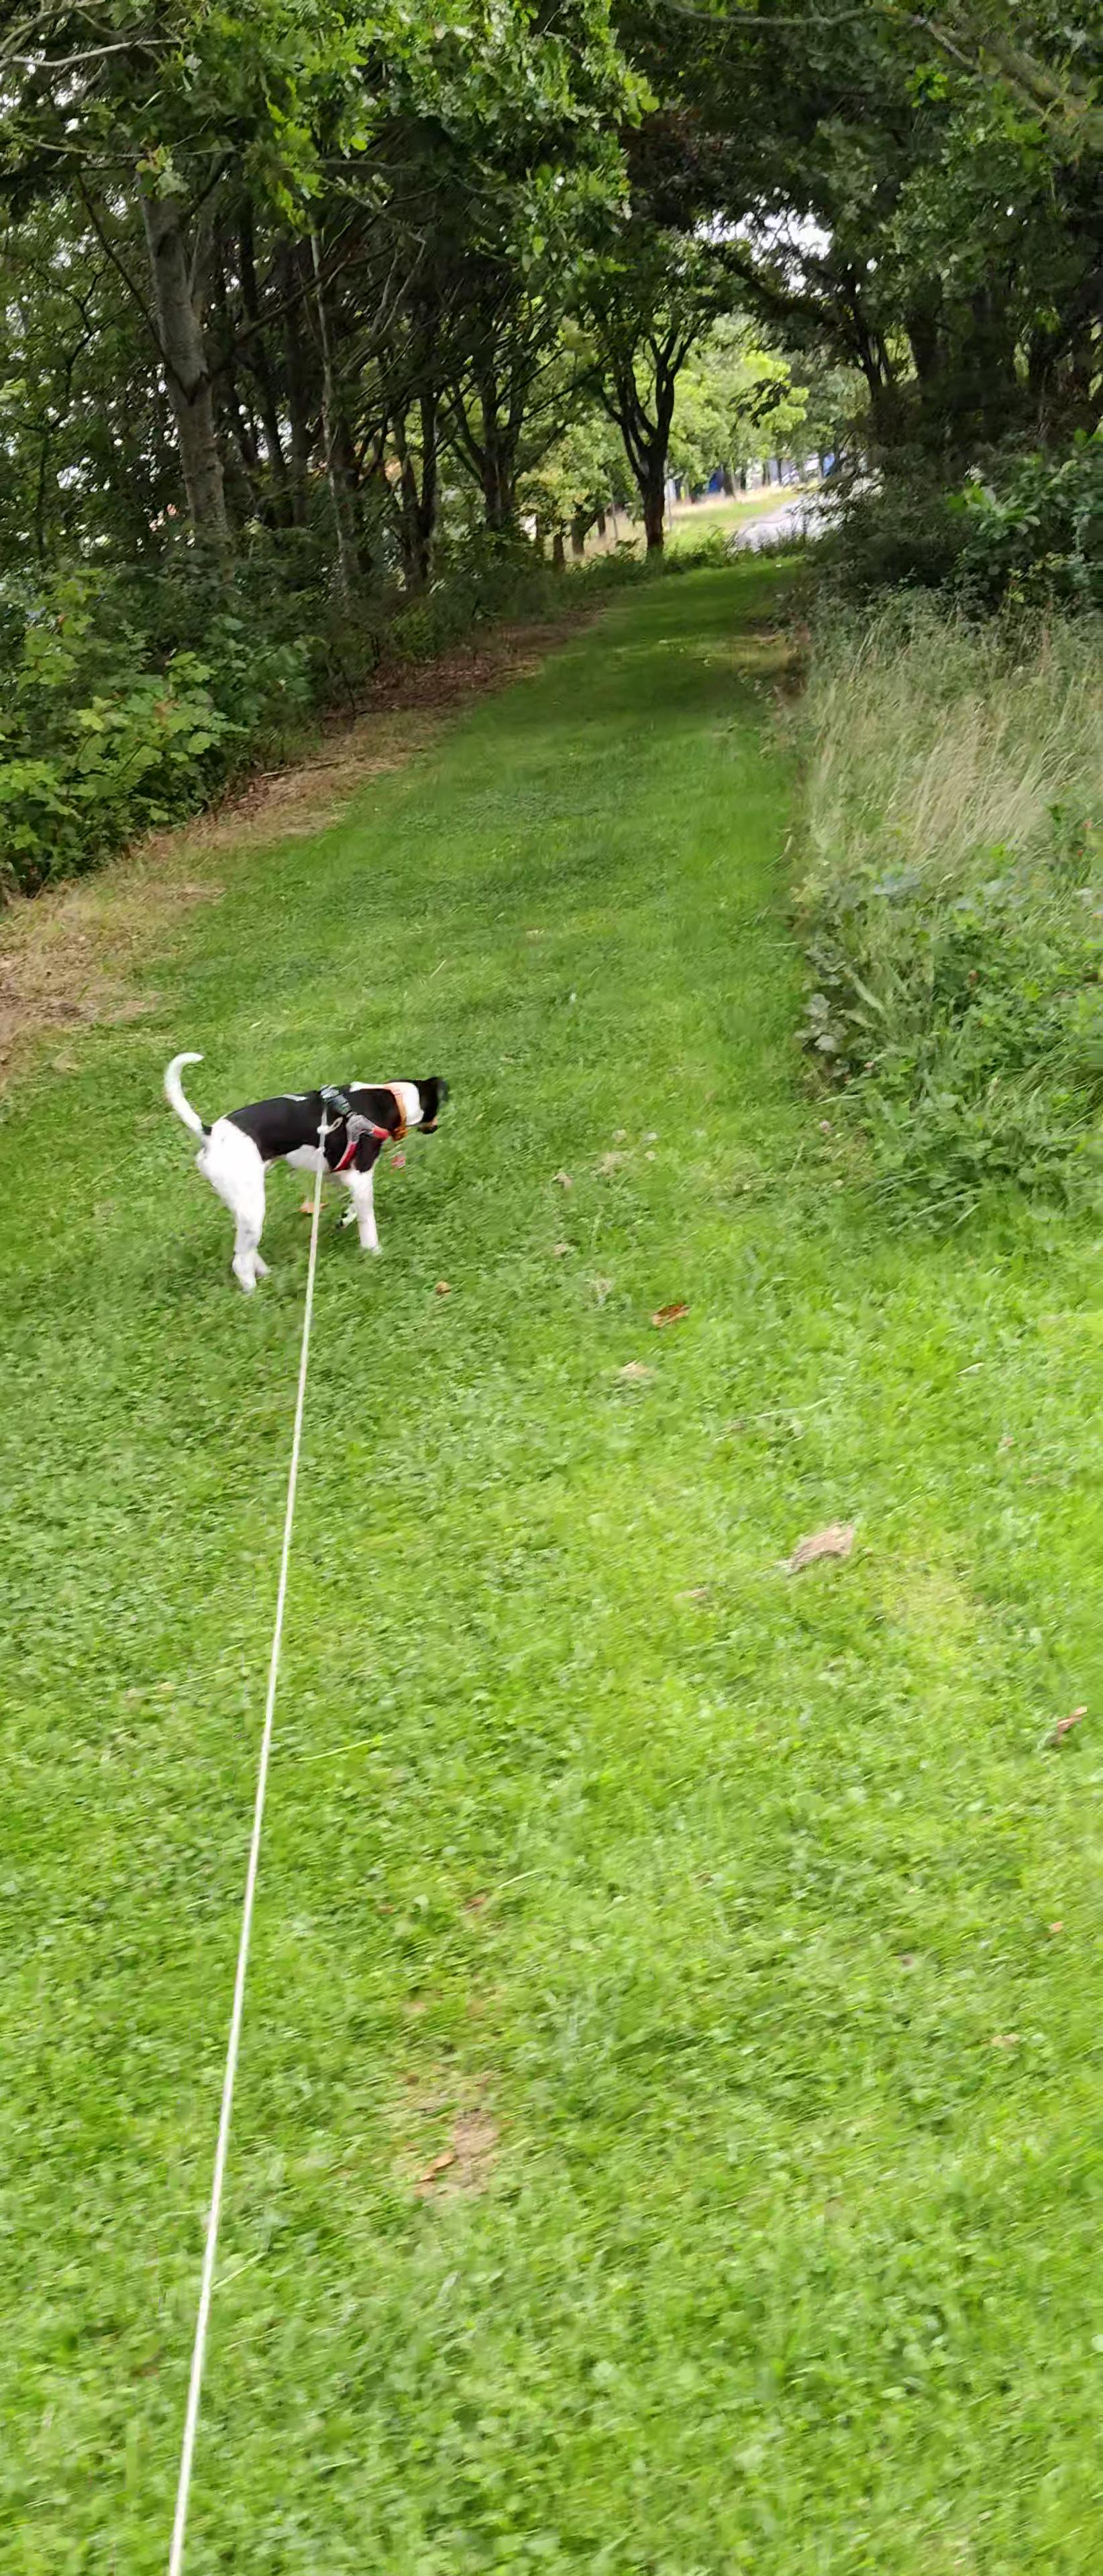Dog: (159, 1051, 450, 1298)
